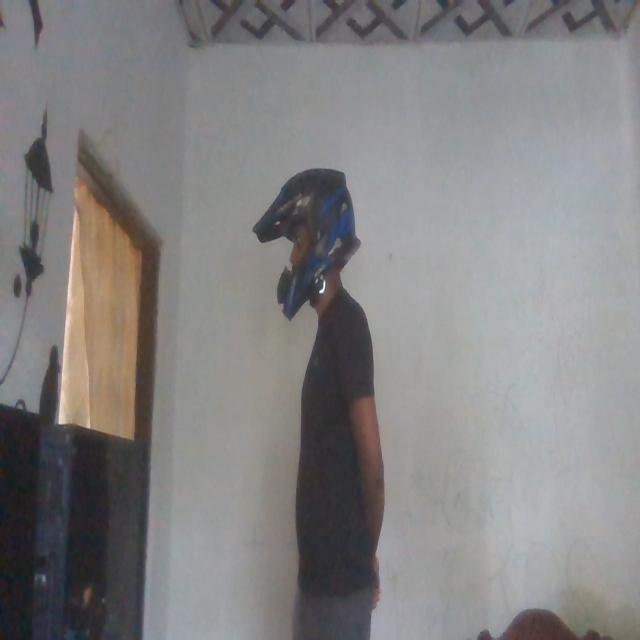Helmet_Wearer: (254, 169, 360, 299)
Person: (255, 170, 393, 640)
